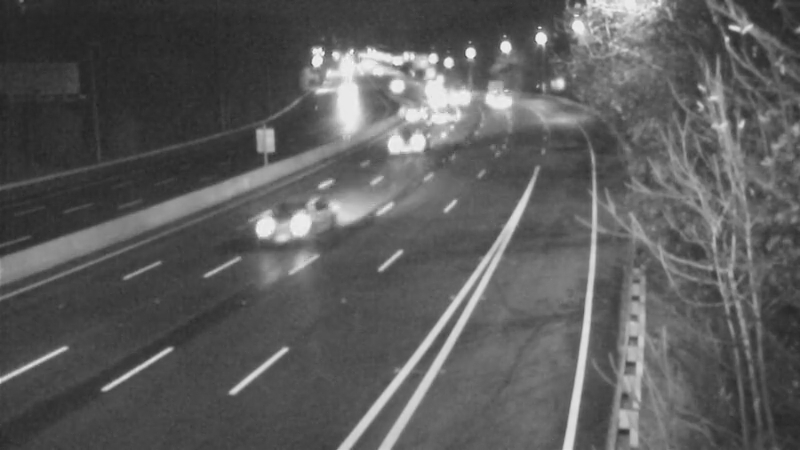vehicle: (233, 186, 313, 266), (408, 59, 458, 109), (372, 60, 422, 110), (411, 72, 461, 122), (430, 71, 480, 121), (472, 71, 522, 121), (419, 91, 469, 141), (379, 88, 429, 138), (389, 119, 439, 169), (315, 70, 365, 120)
